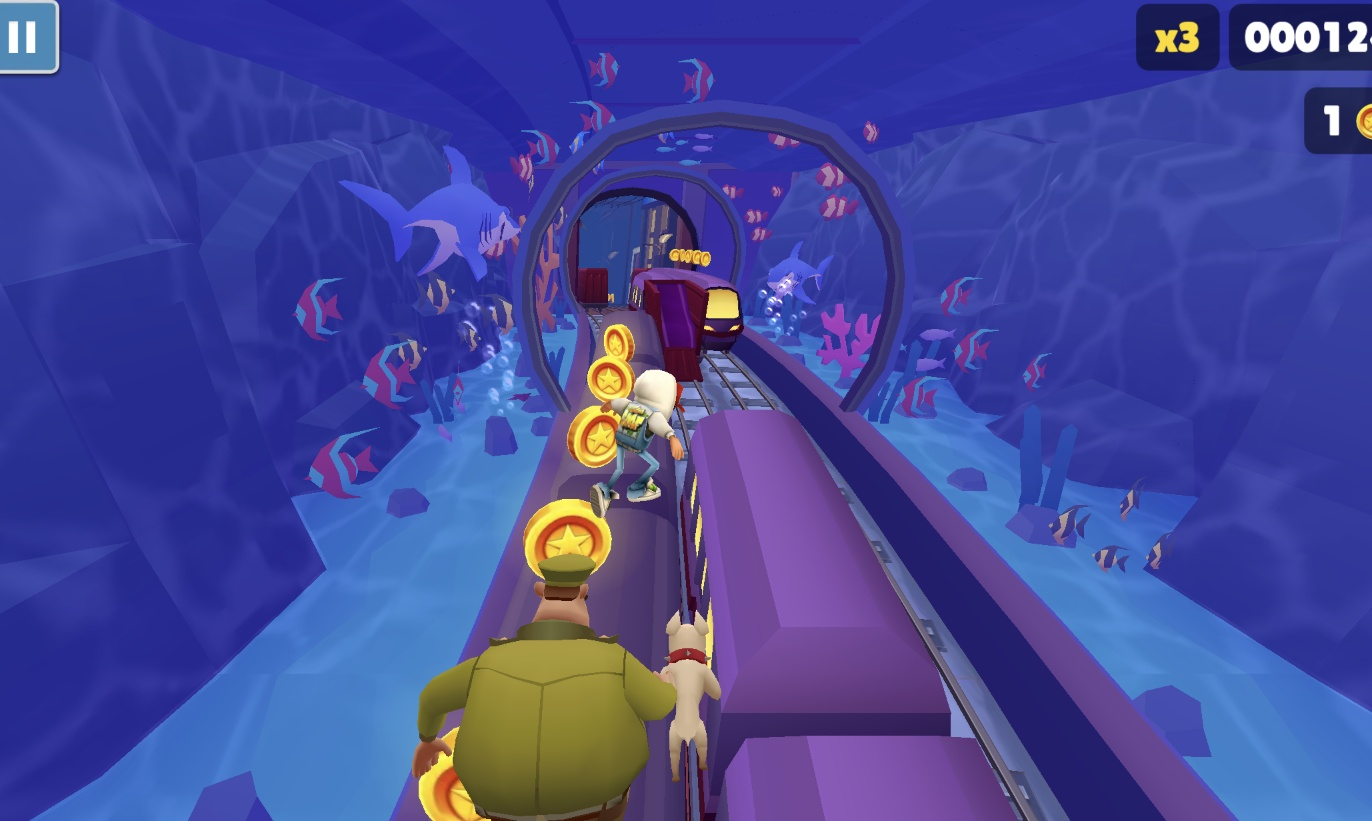train: (679, 409, 1033, 821), (434, 367, 678, 821), (629, 269, 727, 384), (699, 276, 745, 351), (576, 264, 611, 310)
